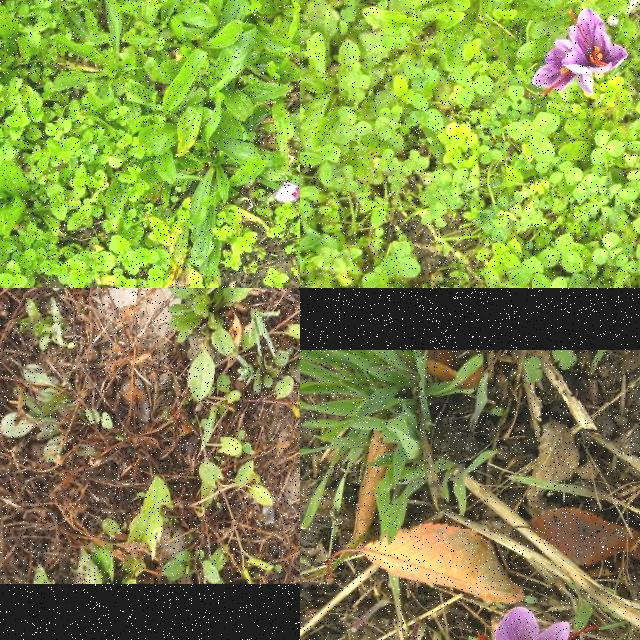flower: (460, 607, 628, 640), (276, 182, 300, 203)
overlap: (532, 8, 628, 100)
